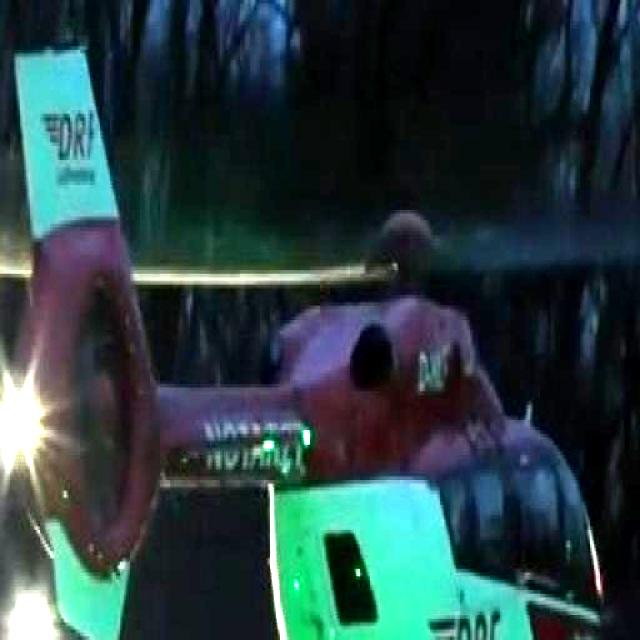drone: (0, 66, 620, 640)
